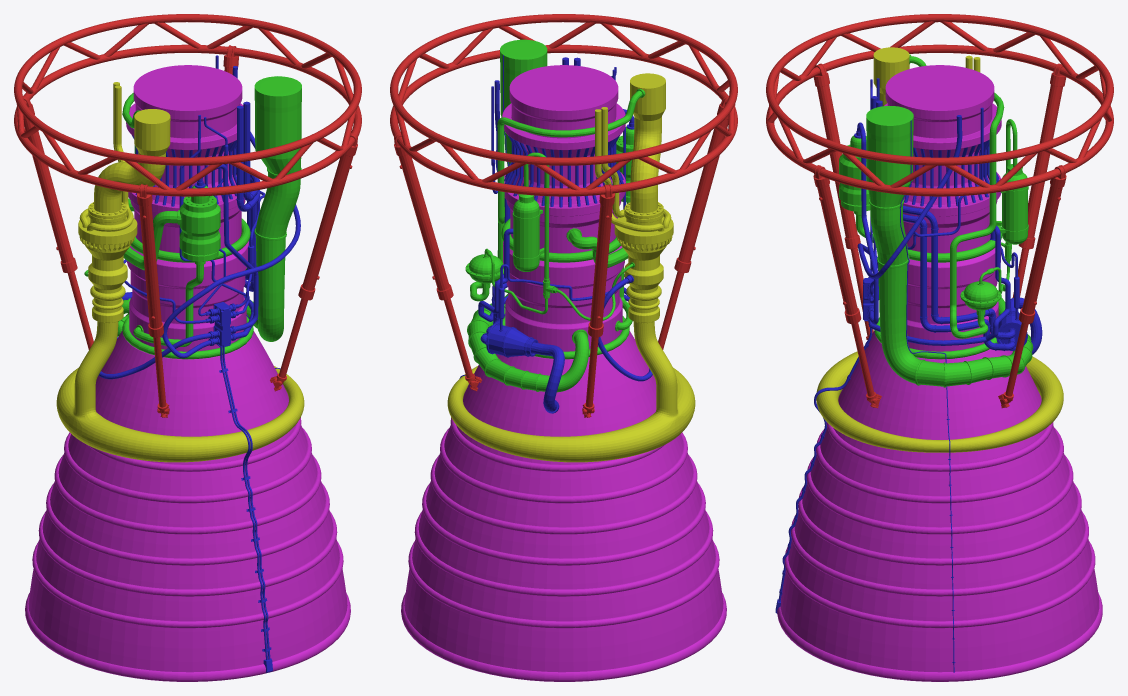
File: Rocket Engine.fbx
The picture shows the model from 3 angles, left to right: view 1: azimuth 30°, elevation 25°; view 2: azimuth 150°, elevation 25°; view 3: azimuth 270°, elevation 25°; orthographic projection.
Visible parts, largest first — view 1: Nozzle, Part_1, Part_4, Part_3, Part_2; view 2: Nozzle, Part_1, Part_4, Part_3, Part_2; view 3: Nozzle, Part_1, Part_3, Part_2, Part_4.
Boxes of the visible parts, x1=… form: Nozzle: x1=25, y1=65, x2=350, y2=681; Part_1: x1=14, y1=14, x2=361, y2=417; Part_4: x1=56, y1=82, x2=304, y2=462; Part_3: x1=84, y1=76, x2=301, y2=359; Part_2: x1=98, y1=55, x2=300, y2=672; Nozzle: x1=401, y1=65, x2=726, y2=681; Part_1: x1=390, y1=14, x2=737, y2=417; Part_4: x1=447, y1=73, x2=695, y2=462; Part_3: x1=465, y1=39, x2=645, y2=392; Part_2: x1=459, y1=55, x2=652, y2=413; Nozzle: x1=777, y1=65, x2=1102, y2=681; Part_1: x1=766, y1=14, x2=1113, y2=408; Part_3: x1=839, y1=54, x2=1033, y2=387; Part_2: x1=775, y1=78, x2=1042, y2=672; Part_4: x1=816, y1=47, x2=1063, y2=452.
Bounding box in the file's own units: 397 × 668 × 397.
